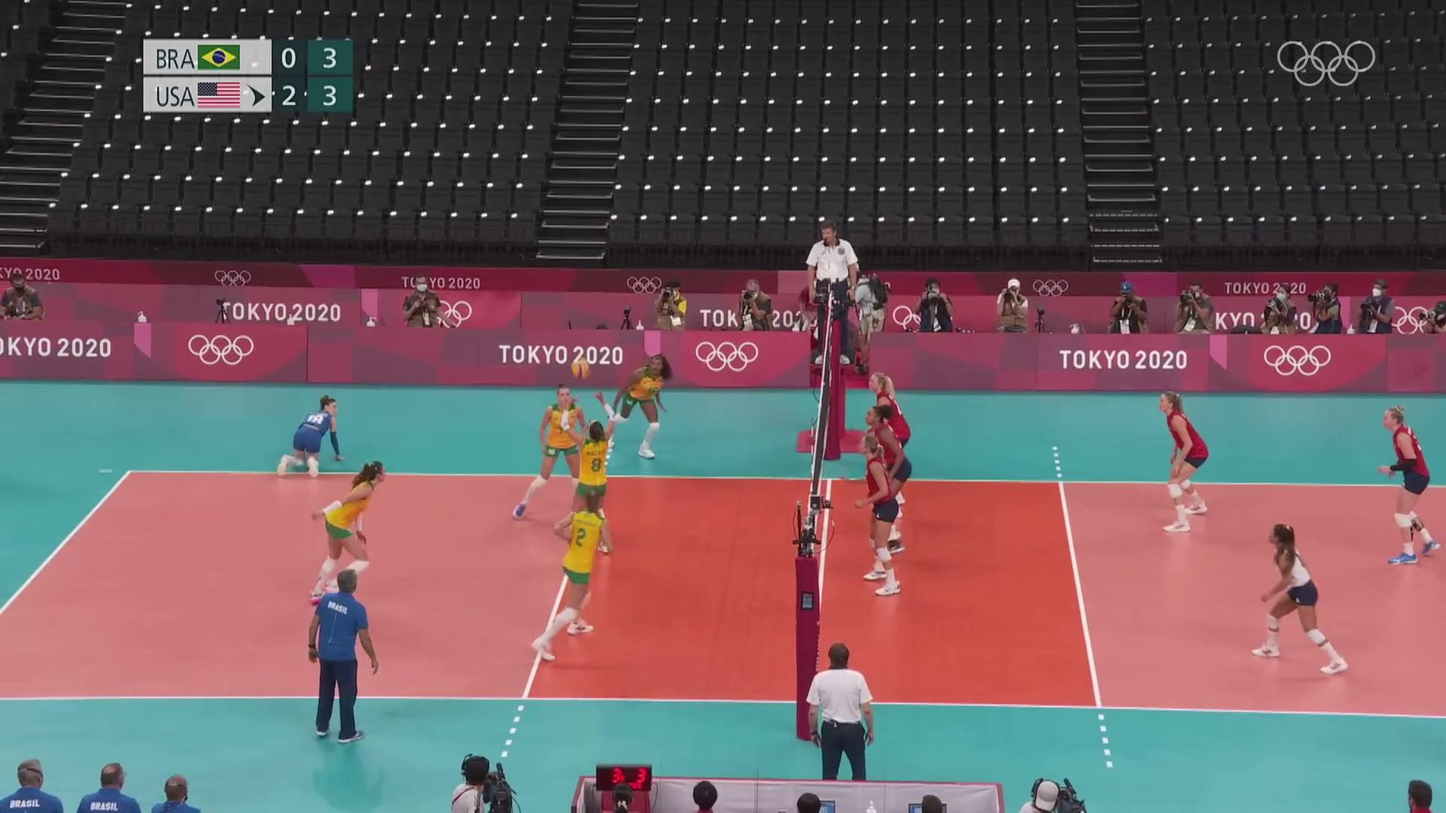player: (1249, 527, 1348, 671), (531, 495, 608, 665), (518, 387, 601, 527), (312, 460, 386, 600), (560, 395, 618, 551), (1384, 408, 1439, 562), (855, 436, 906, 602), (597, 356, 671, 462), (1154, 393, 1211, 529), (861, 404, 911, 555), (865, 373, 912, 515), (277, 399, 345, 482)
refree: (301, 572, 379, 745), (799, 646, 878, 781), (802, 231, 872, 372)
